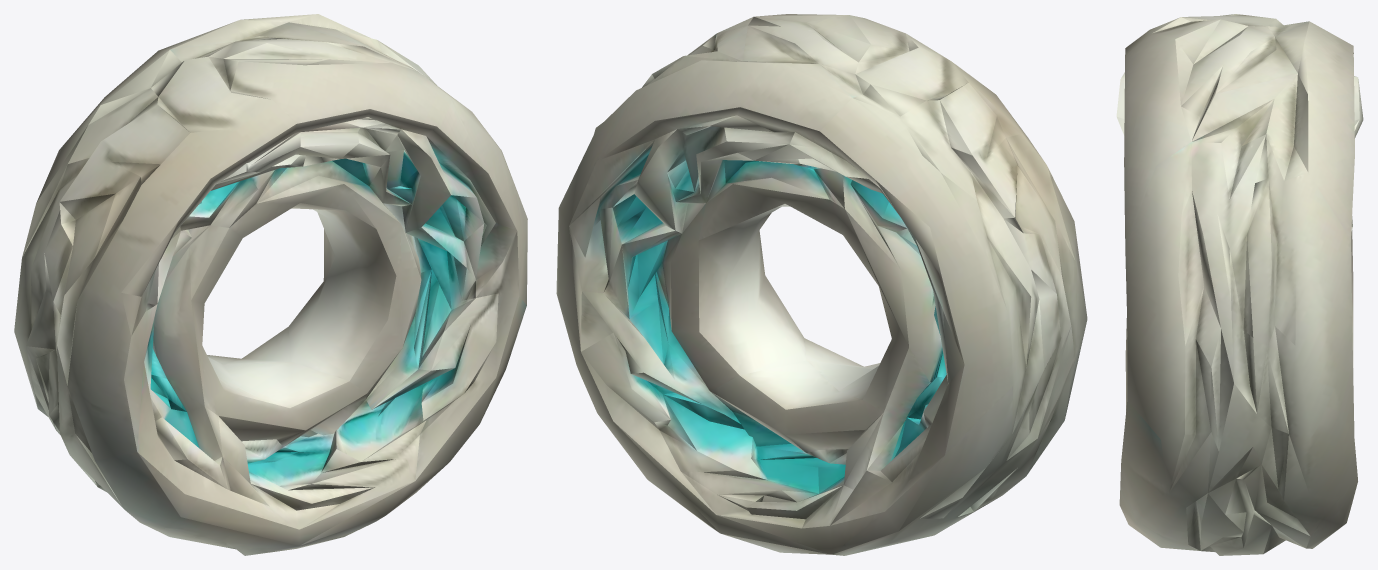
File: m2WindRing.glb
3 renders of one model, left to right at view 1: azimuth 30°, elevation 25°; view 2: azimuth 150°, elevation 25°; view 3: azimuth 270°, elevation 25°, orthographic. The views are drawn at different scales.
Visible parts, largest first — view 1: model; view 2: model; view 3: model.
Boxes of the visible parts, x1,y1,x2,y2 form: model: (14,14,527,555); model: (556,14,1087,555); model: (1116,14,1363,555).
Bounding box in the file's own units: 1.89 × 1.9 × 0.8594.
Materials: 1 (1 with a texture image).
